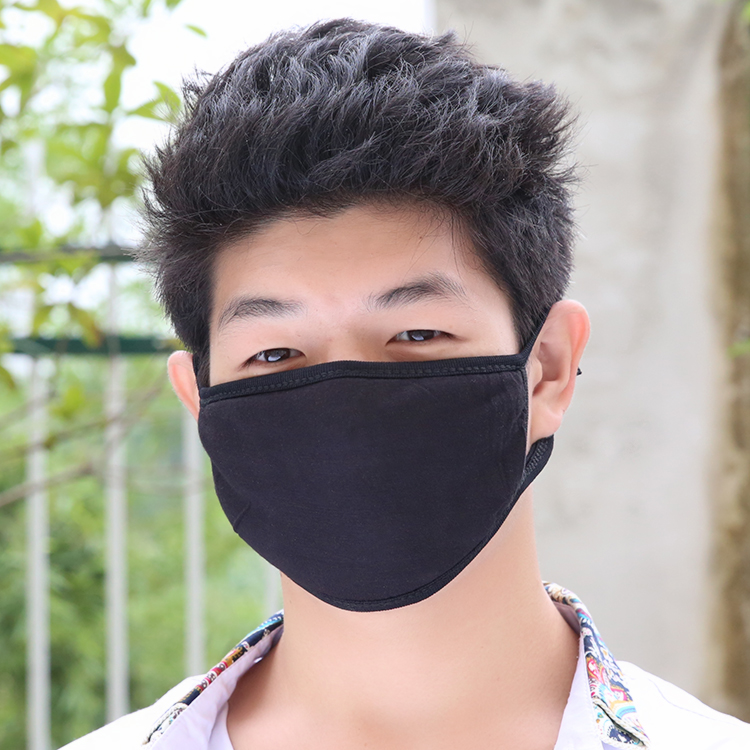face_mask: (204, 194, 513, 577)
